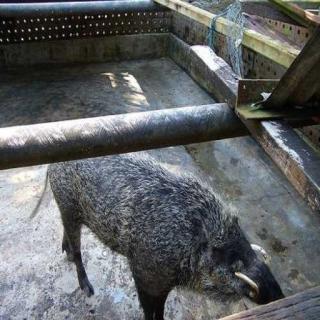Pig: (16, 143, 316, 320)
